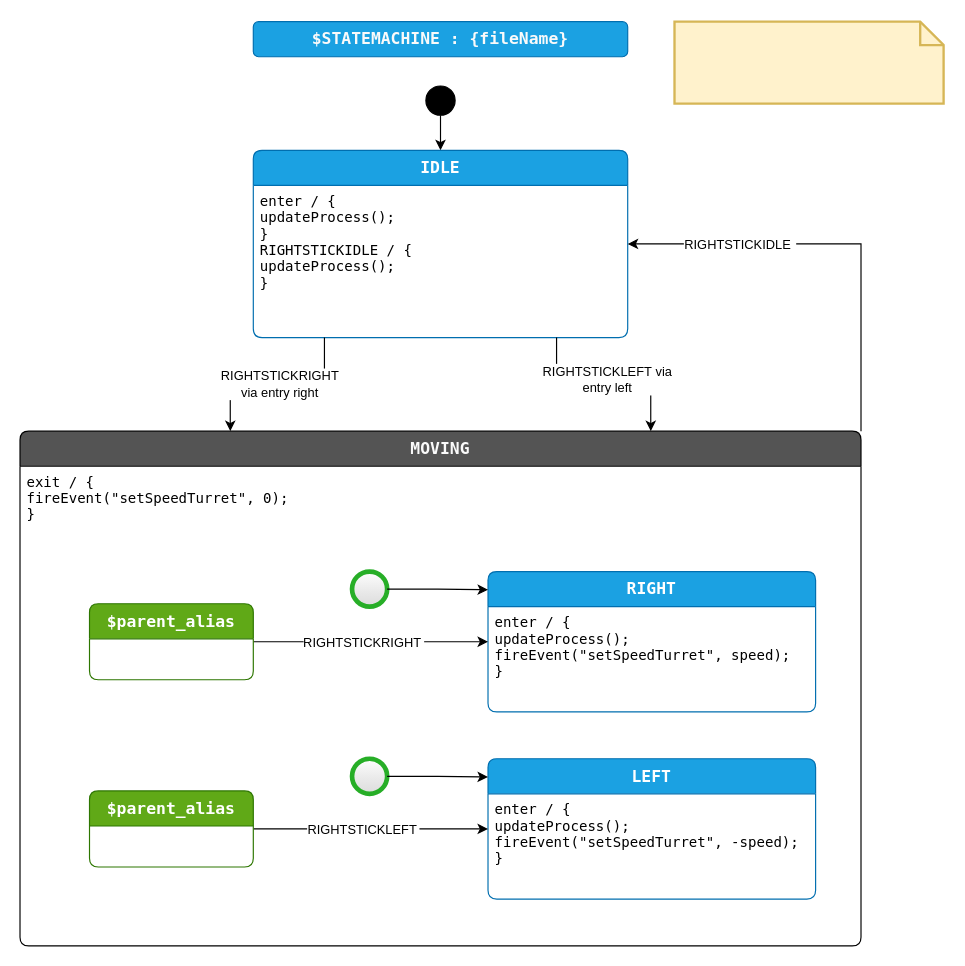
Some shapes in this 965 by 966 pixel diagram are drawn without their labels. The centre of each missing label's shape, as x and y in pixels:
"entry : left" belongs at pixel 369 776.
"entry : right" belongs at pixel 369 588.
"Speed is set via dispatchEvent, (see Turret.java)" belongs at pixel 808 62.
